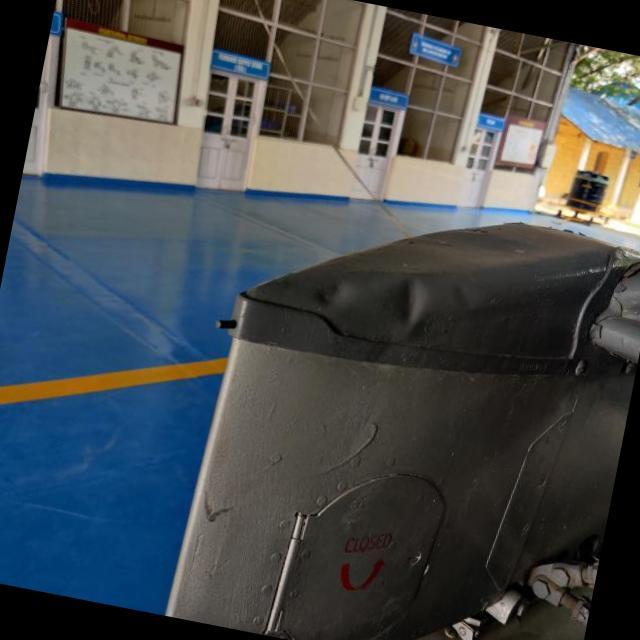Dent: (378, 262, 447, 344), (300, 262, 366, 328)
